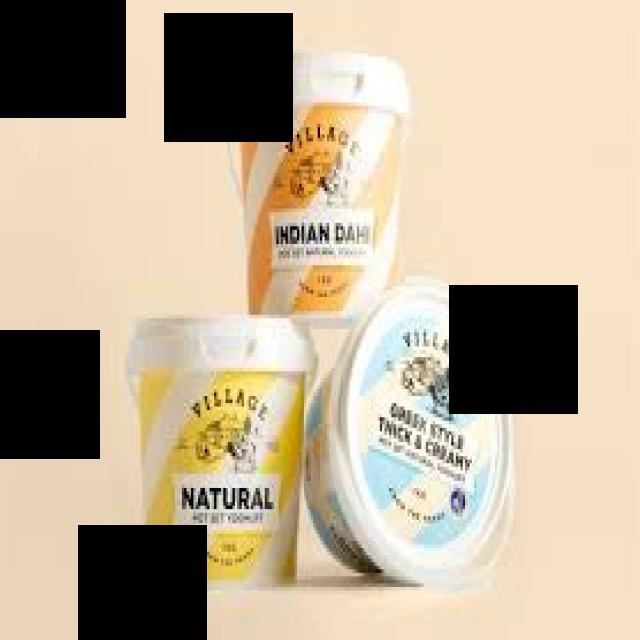yoghurt: (304, 270, 514, 590), (124, 315, 319, 594), (231, 45, 411, 325)
